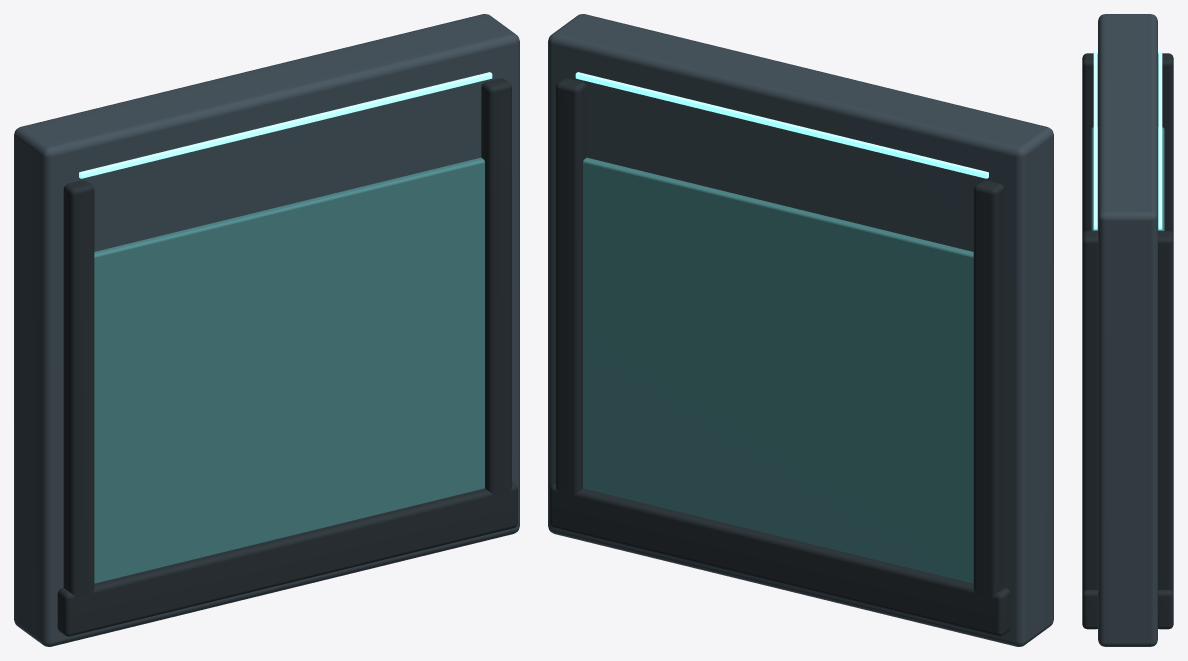
The model's file is wall.glb.
The picture shows the model from 3 angles, left to right: view 1: azimuth 30°, elevation 25°; view 2: azimuth 150°, elevation 25°; view 3: azimuth 270°, elevation 25°; orthographic projection. The views are drawn at different scales.
Visible parts, largest first — view 1: wall; view 2: wall; view 3: wall.
Part boxes in pixels (<box>): wall: <box>14,14,519,646</box>; wall: <box>548,14,1053,646</box>; wall: <box>1082,14,1173,646</box>.
Size of the model in its own units: 4 by 4 by 0.76.
